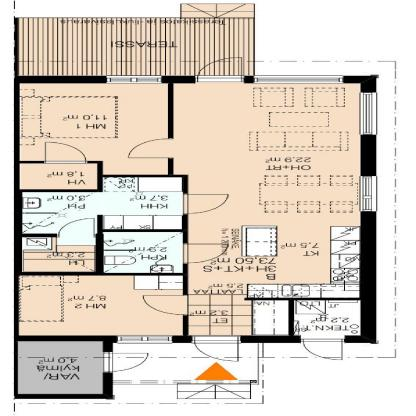door: (194, 335, 244, 363), (179, 241, 233, 265), (100, 350, 152, 374), (140, 293, 192, 317), (40, 141, 92, 164), (179, 194, 231, 215), (301, 336, 345, 359), (196, 57, 244, 76), (57, 216, 102, 236), (126, 140, 172, 159)
window: (360, 95, 378, 136), (359, 175, 377, 211), (256, 76, 338, 83), (113, 335, 174, 342), (106, 76, 160, 81)
zone: (171, 82, 361, 296), (20, 176, 180, 274), (21, 82, 168, 175), (18, 18, 253, 76), (20, 274, 182, 337), (113, 340, 265, 384), (18, 340, 106, 396), (188, 294, 286, 334), (109, 232, 186, 272), (292, 297, 358, 338), (18, 163, 102, 188)
